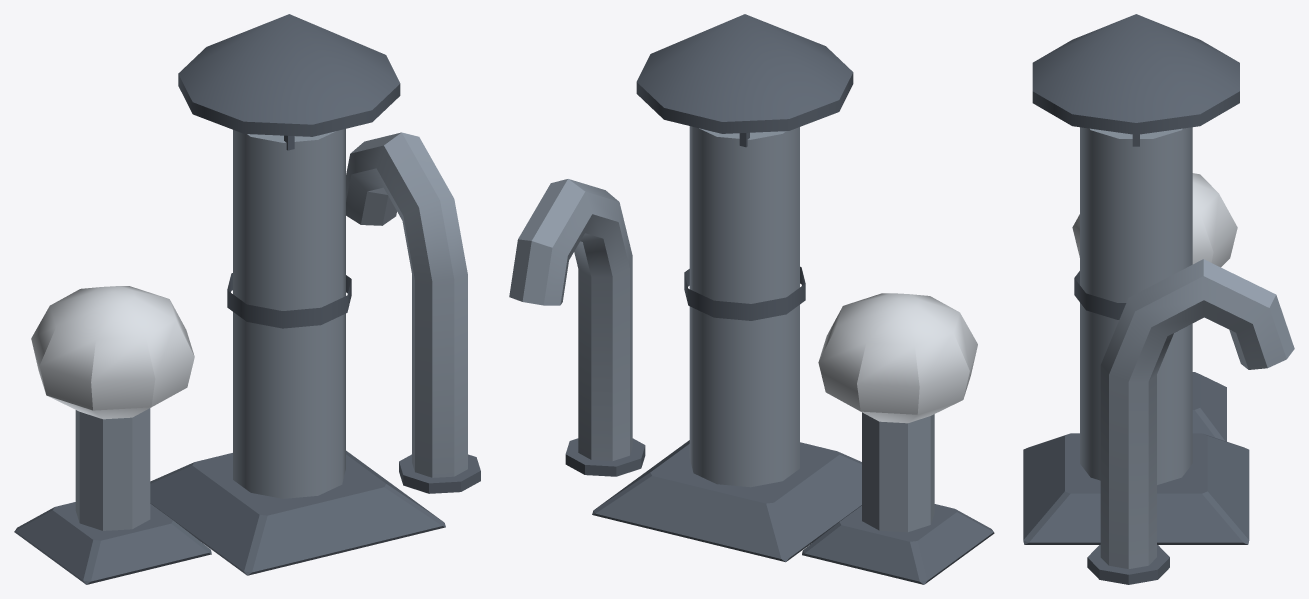
The model's file is vent_pipe.glb.
3 renders of one model, left to right at view 1: azimuth 30°, elevation 25°; view 2: azimuth 150°, elevation 25°; view 3: azimuth 270°, elevation 25°, orthographic. The views are drawn at different scales.
Parts seen in each view (by area): view 1: vent_pipe; view 2: vent_pipe; view 3: vent_pipe.
Boxes of the visible parts, x1,y1,x2,y2 form: vent_pipe: [14, 14, 480, 584]; vent_pipe: [509, 14, 994, 584]; vent_pipe: [1023, 14, 1294, 584].
Size of the model in its own units: 1.27 by 1.42 by 0.7225.
